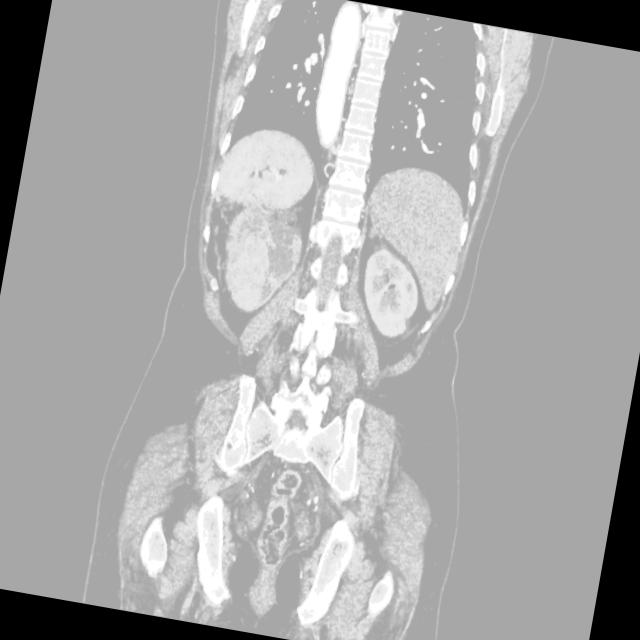TUMOR: (143, 165, 529, 401)
